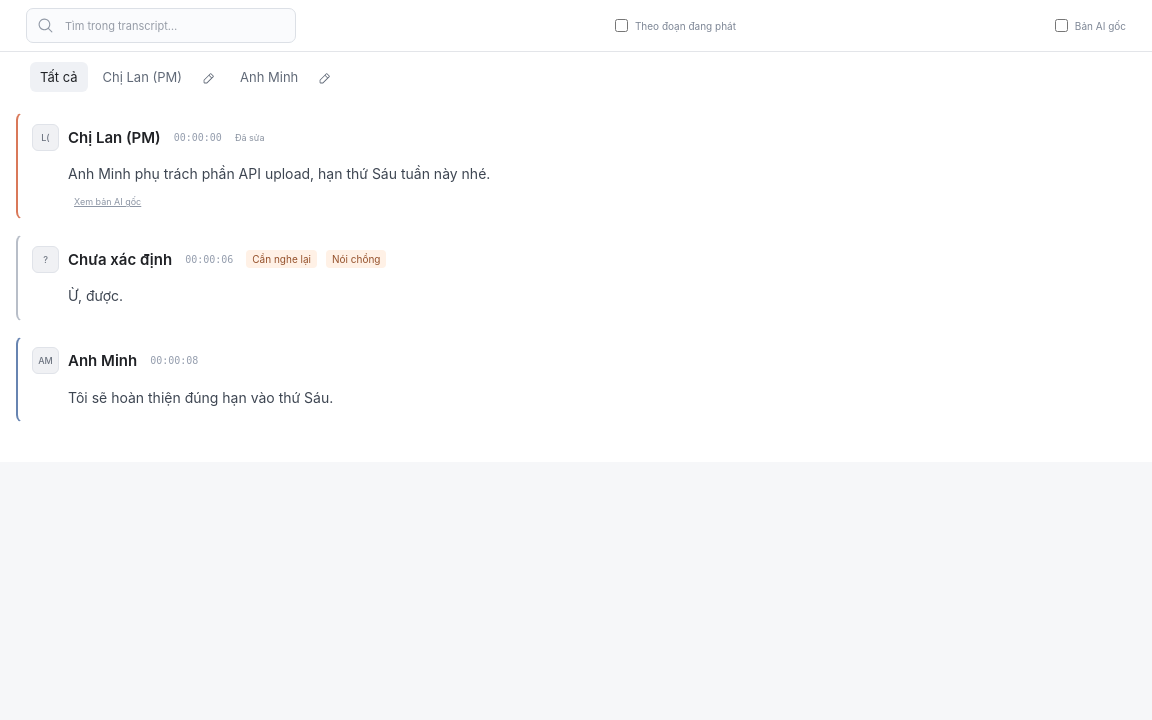
Test: FE-11 rename speaker › offers reload on 409 without discarding the draft
This screenshot has width=1152, height=720.
Click the button named "Đổi tên Chị Lan (PM)" at (208, 77), box [192,62,225,92]
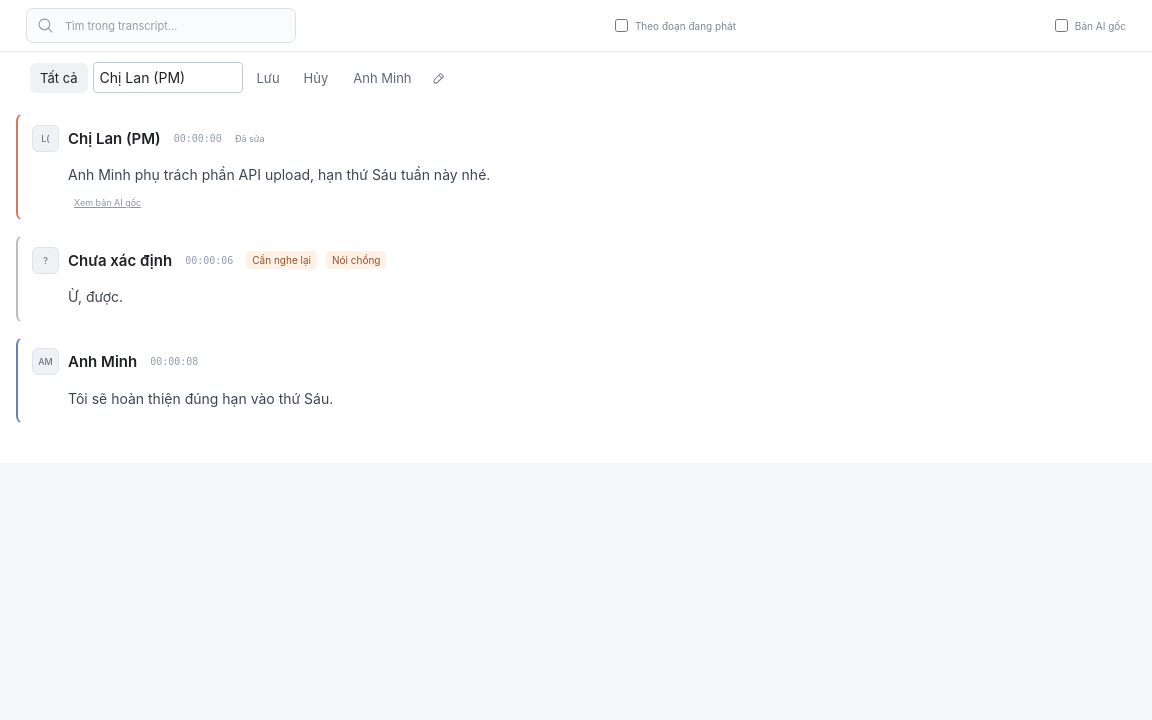
Replace the text in the field named "Tên mới của Chị Lan (PM)" with "Lan mới" at (168, 78), box [92,62,242,93]
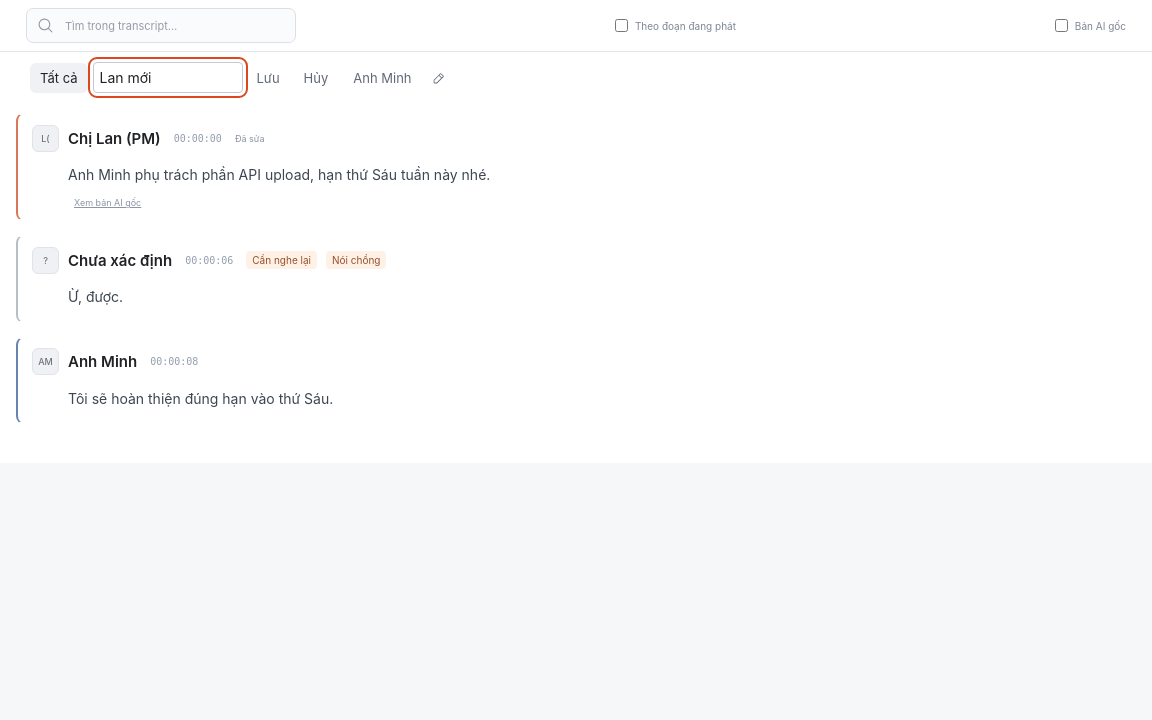
Click the button "Lưu" at (268, 78), box [246,62,290,92]
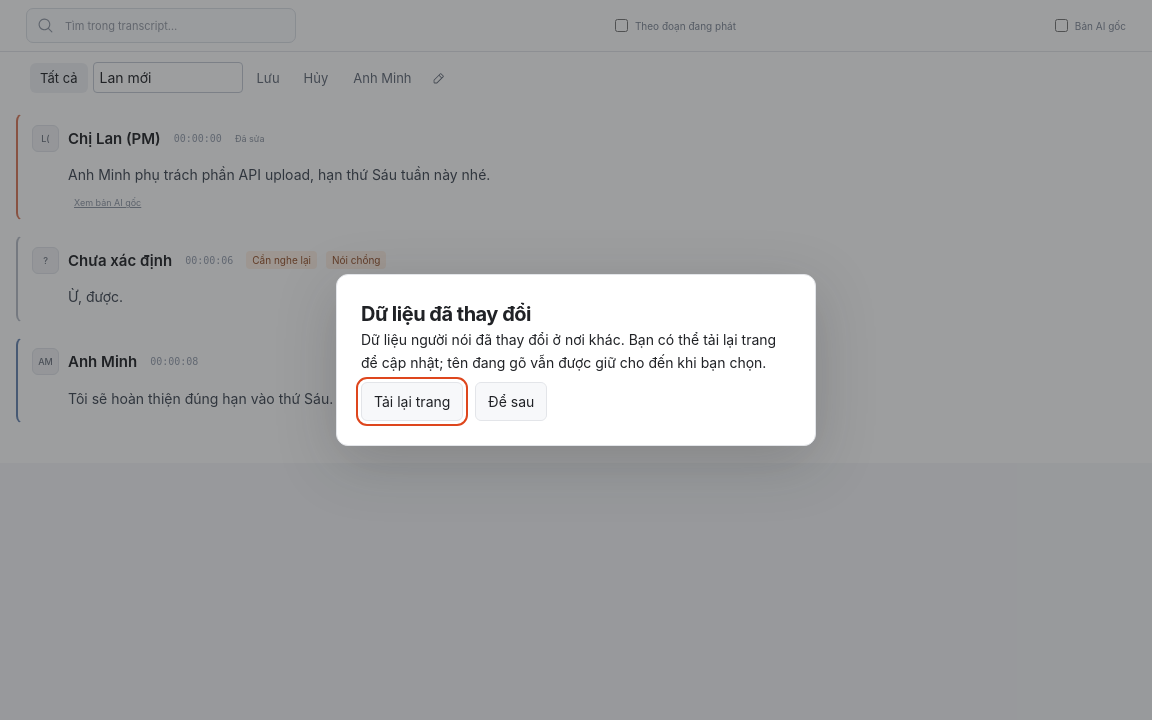
Check: the dialog shows "tải lại trang", box [361,382,463,421]
